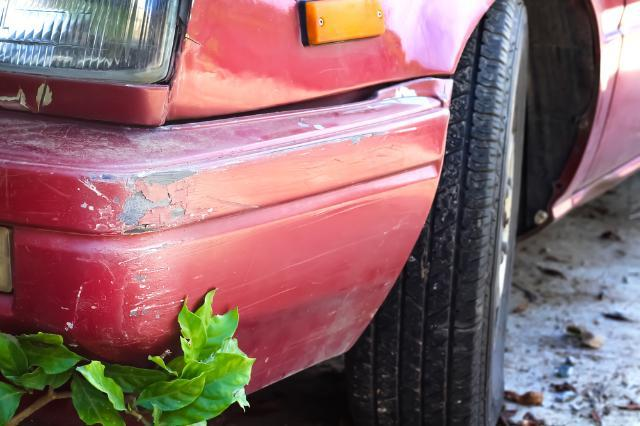scratch: (66, 168, 219, 349)
